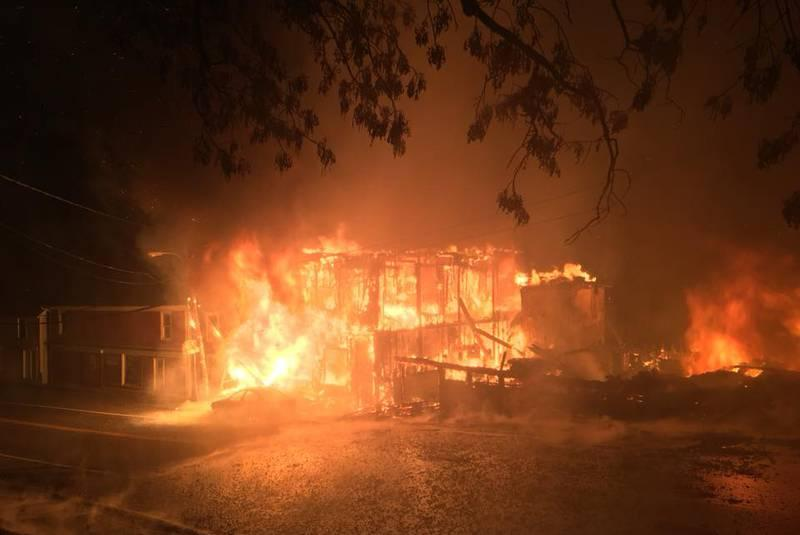Fire: (177, 233, 800, 431)
